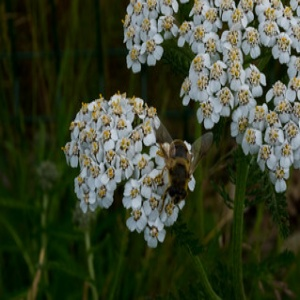bee: (157, 119, 211, 226)
